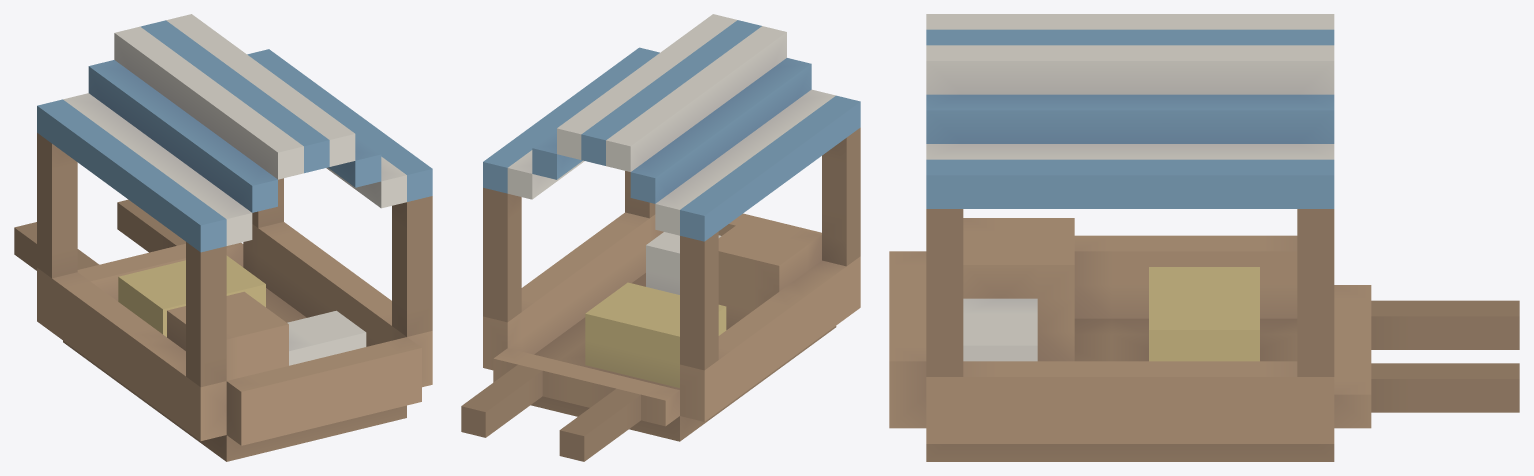
Rendered from life_cart_merchant.glb.
The picture shows the model from 3 angles, left to right: view 1: azimuth 30°, elevation 25°; view 2: azimuth 150°, elevation 25°; view 3: azimuth 270°, elevation 25°; orthographic projection. The views are drawn at different scales.
Parts seen in each view (by area): view 1: life_cart_merchant; view 2: life_cart_merchant; view 3: life_cart_merchant.
Part boxes in pixels (left/top/right/bottom): life_cart_merchant: left=14, top=14, right=432, bottom=461; life_cart_merchant: left=461, top=14, right=860, bottom=461; life_cart_merchant: left=889, top=14, right=1519, bottom=461.
Bounding box in the file's own units: 0.5625 × 0.6875 × 1.06.
